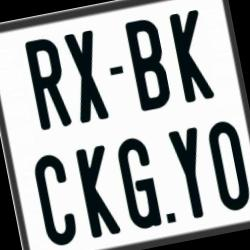0: (204, 117, 250, 213)
B: (123, 16, 173, 110)
C: (32, 150, 80, 245)
G: (115, 134, 163, 232)
K: (74, 145, 122, 242), (168, 8, 214, 102)
R: (23, 35, 73, 132)
X: (62, 28, 109, 124)
Y: (167, 126, 212, 220)
